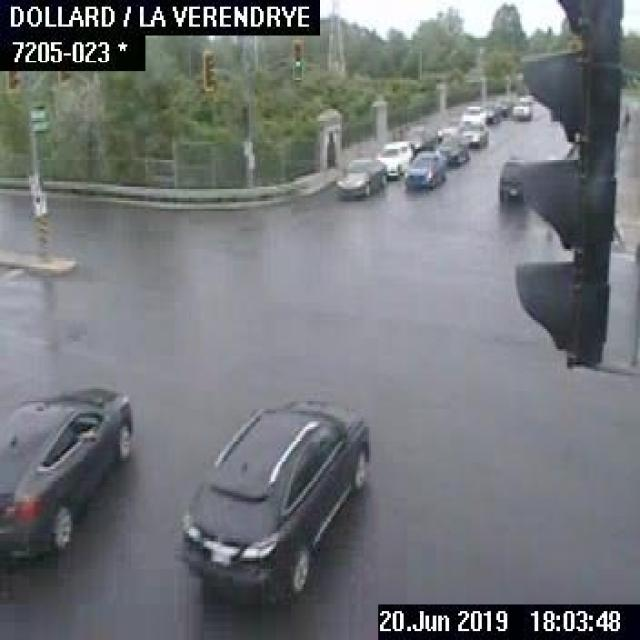vehicle: (174, 393, 368, 598), (0, 384, 135, 569), (334, 157, 386, 198), (398, 148, 443, 190), (494, 158, 522, 209), (376, 140, 409, 177), (401, 120, 439, 150), (434, 138, 471, 166), (458, 120, 488, 149), (458, 104, 489, 126), (510, 100, 532, 120)
